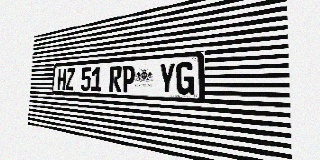1: (91, 67, 102, 91)
5: (81, 67, 92, 91)
G: (176, 61, 194, 95)
H: (57, 69, 66, 90)
P: (121, 65, 135, 93)
R: (109, 66, 122, 92)
Y: (158, 62, 176, 94)
Z: (65, 68, 75, 90)
